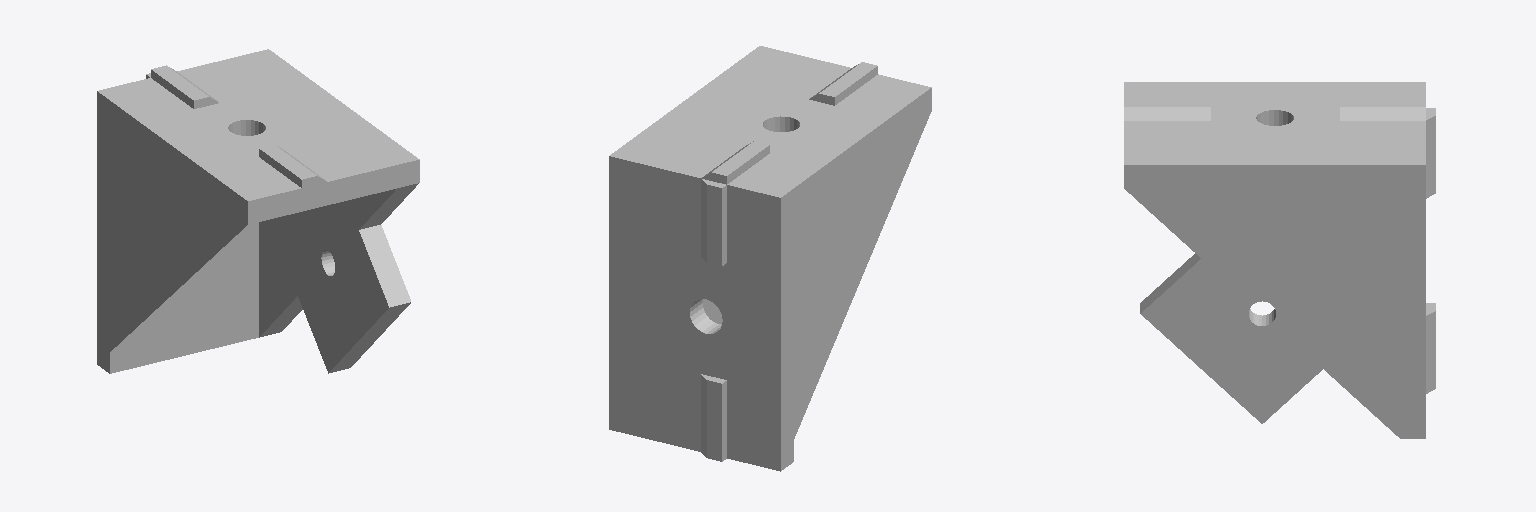
File: corner brace mount.obj
The picture shows the model from 3 angles: view 1: azimuth 30°, elevation 25°; view 2: azimuth 150°, elevation 25°; view 3: azimuth 270°, elevation 25°; orthographic projection.
Visible parts, largest first — view 1: Mesh1 Model; view 2: Mesh1 Model; view 3: Mesh1 Model.
Part boxes in pixels (bbox=[...]): Mesh1 Model: bbox=[97, 49, 419, 373]; Mesh1 Model: bbox=[609, 46, 931, 471]; Mesh1 Model: bbox=[1124, 82, 1435, 438].
Bounding box in the file's own units: 23 × 36.1 × 36.1.